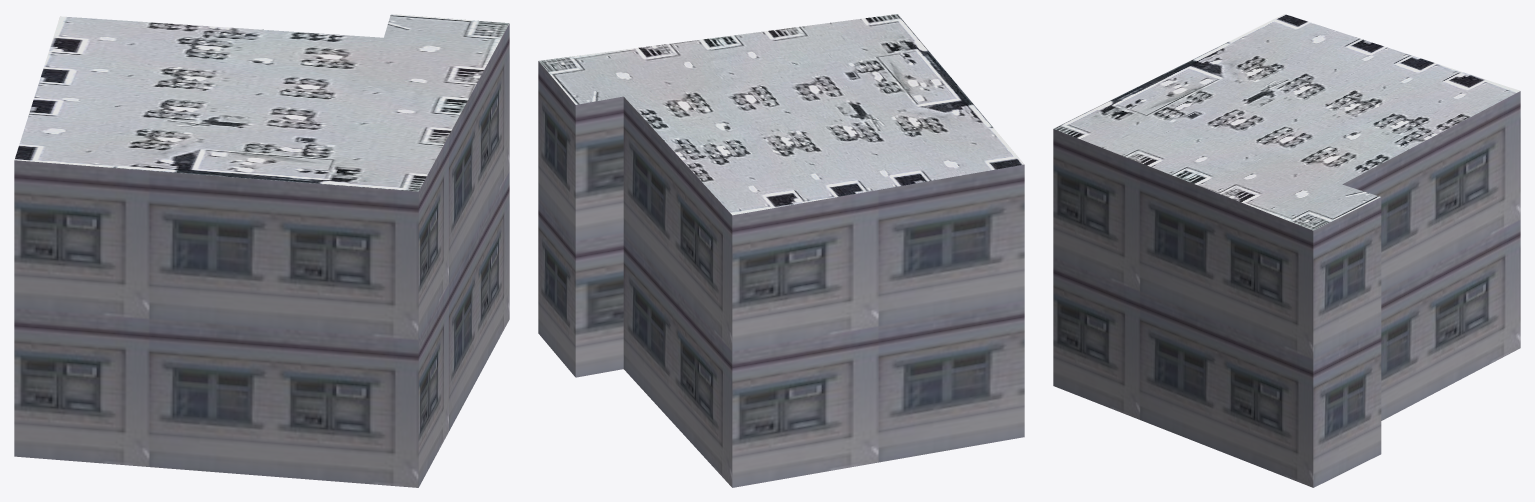
File: ResTex__1062.fbx
3 views of the same model, side by side, from view 1: azimuth 30°, elevation 25°; view 2: azimuth 150°, elevation 25°; view 3: azimuth 270°, elevation 25° (orthographic). The views are drawn at different scales.
Parts seen in each view (by area): view 1: CityEngineMaterial_1_m, CityEngineMaterial_2_m; view 2: CityEngineMaterial_1_m, CityEngineMaterial_2_m; view 3: CityEngineMaterial_1_m, CityEngineMaterial_2_m.
Part boxes in pixels (left/top/right/bottom): CityEngineMaterial_1_m: left=14, top=23, right=509, bottom=487; CityEngineMaterial_2_m: left=14, top=14, right=509, bottom=191; CityEngineMaterial_1_m: left=538, top=61, right=1024, bottom=487; CityEngineMaterial_2_m: left=539, top=14, right=1024, bottom=215; CityEngineMaterial_1_m: left=1053, top=91, right=1520, bottom=487; CityEngineMaterial_2_m: left=1053, top=14, right=1519, bottom=230.
Bounding box in the file's own units: 10.84 × 6 × 9.88.
Materials: 2 (2 with a texture image).
